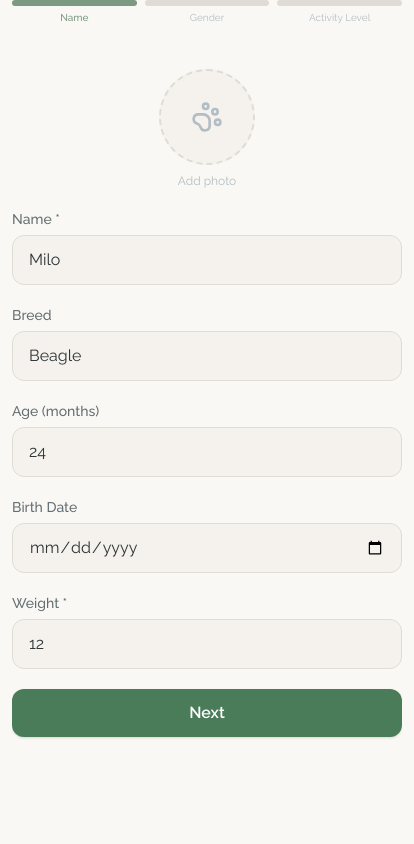
Test case: PetForm › does not submit while advancing from gender to activity step
Click the button "Next".
click(207, 713)  # box [12, 689, 402, 737]
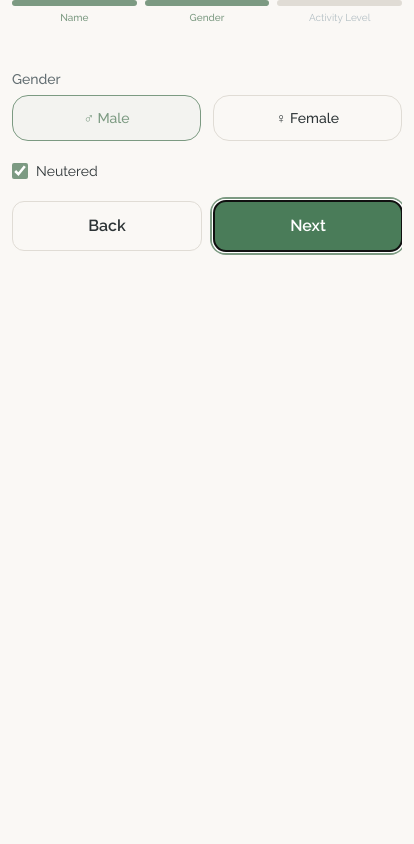
Click the radio button labelled "♀ Female".
click(308, 118)  # box [213, 95, 402, 141]
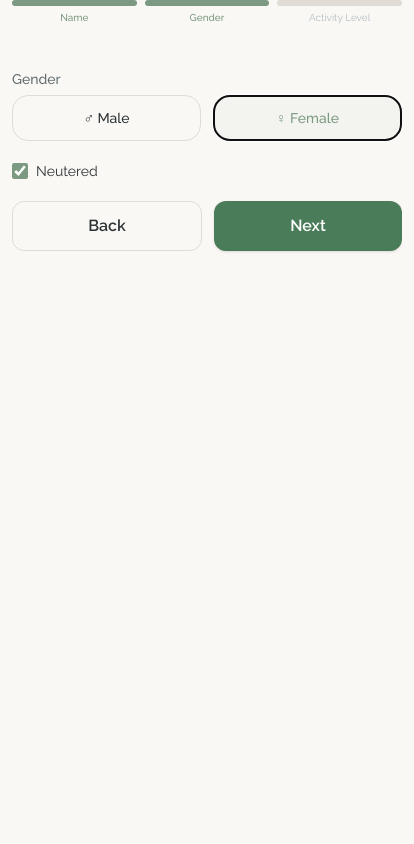
Click the button "Next".
click(308, 226)  # box [214, 201, 402, 251]
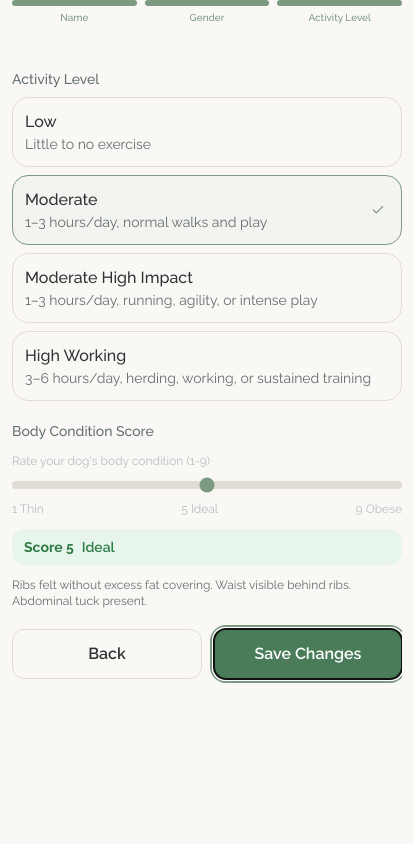
Expected: the text "Body Condition Score" is shown, [12, 423, 154, 439]
